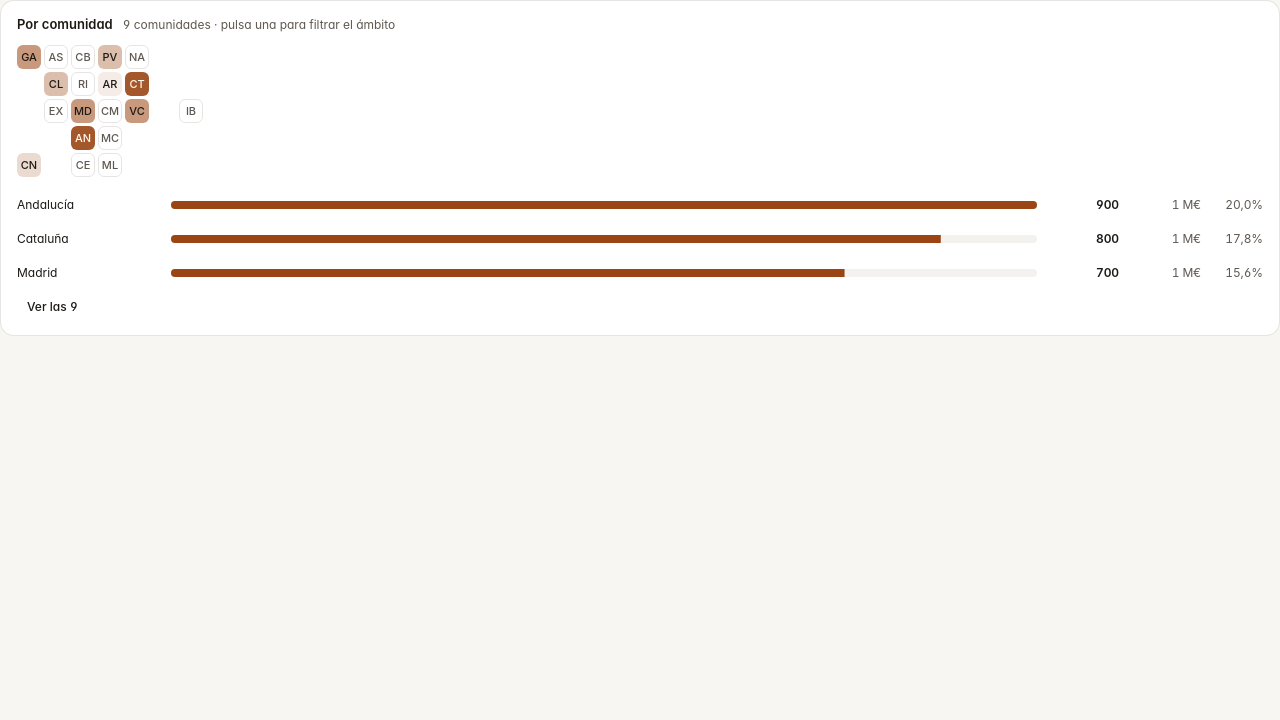
Scenario: ComunidadesPanel › ranks the first communities with their count and share, and shows the rest on demand
Expected: the button "Andalucía 900 1 M€ 20,0%" is shown, [11,189,1269,221]
Click the button "Ver las 9" at (52, 307), box [17,293,88,321]
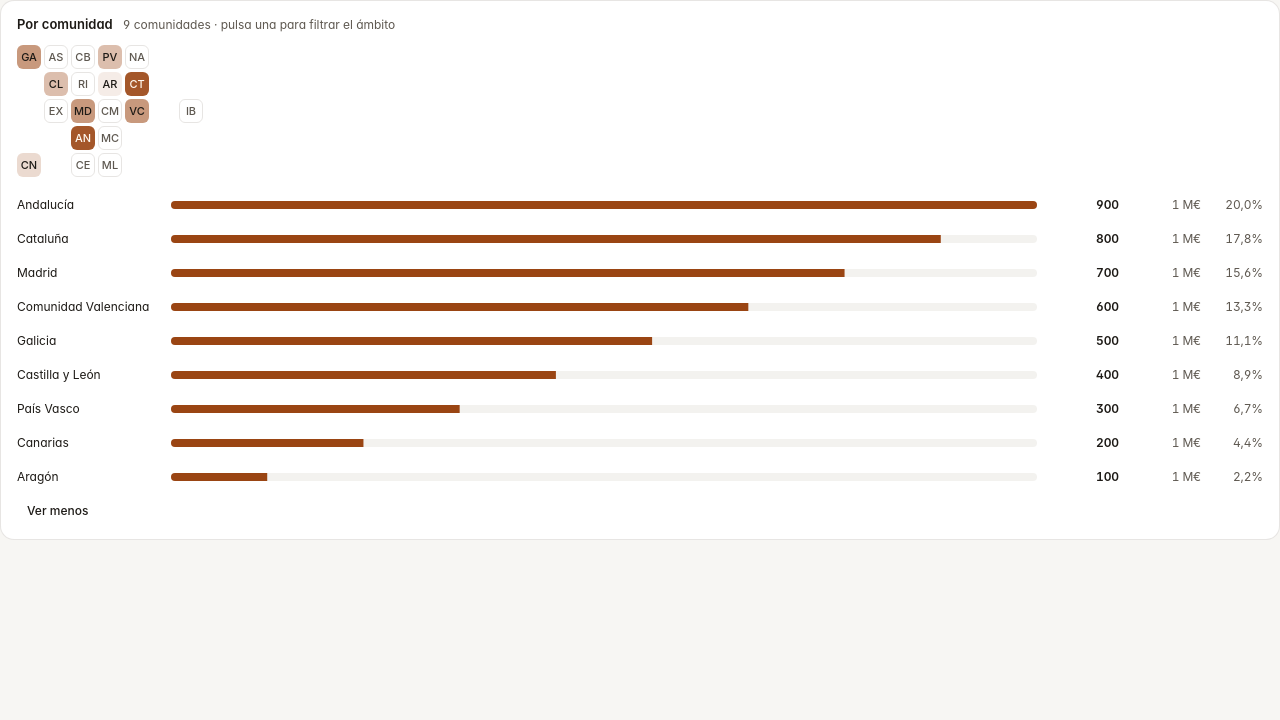
Expected: the button "Ver menos" is expanded, [17,497,98,525]
